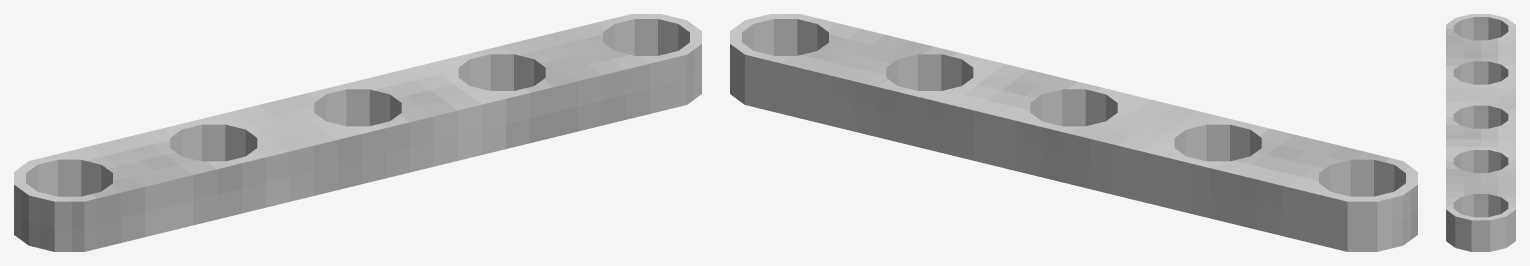
File: bracket5x.obj
3 renders of one model, left to right at view 1: azimuth 30°, elevation 25°; view 2: azimuth 150°, elevation 25°; view 3: azimuth 270°, elevation 25°, orthographic. The views are drawn at different scales.
Parts seen in each view (by area): view 1: tube; view 2: tube; view 3: tube.
Part boxes in pixels (x1,y1,x2,y2): tube: [14, 14, 701, 251]; tube: [730, 14, 1417, 251]; tube: [1446, 14, 1515, 251].
Size of the model in its own units: 1.75 by 0.125 by 0.25.
1 material, 1 textured.
